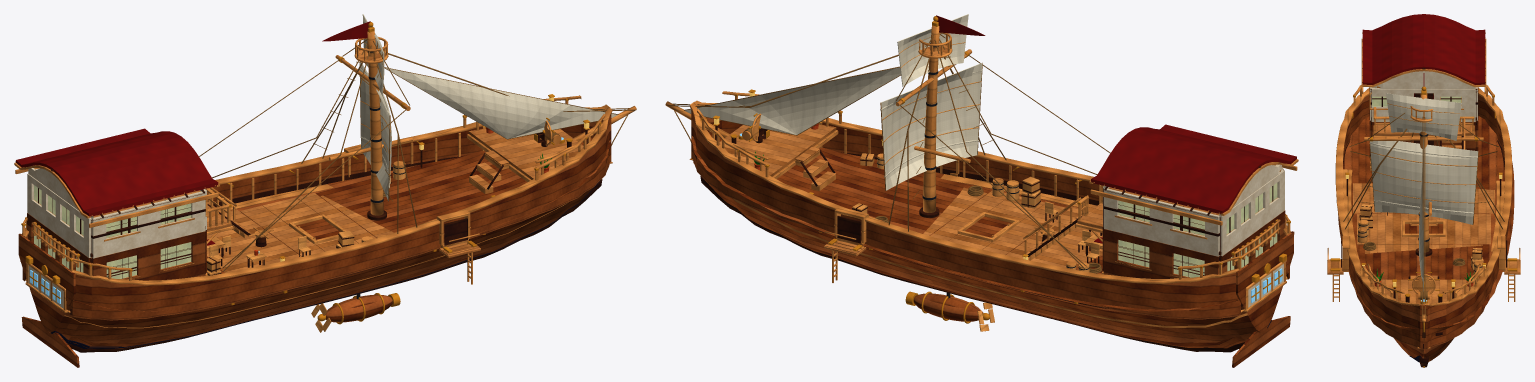
The model's file is airship.glb.
3 renders of one model, left to right at view 1: azimuth 30°, elevation 25°; view 2: azimuth 150°, elevation 25°; view 3: azimuth 270°, elevation 25°, orthographic. The views are drawn at different scales.
Visible parts, largest first — view 1: Hull, CabinShell, Rig, Helm, Props, Boarding; view 2: Hull, CabinShell, Rig, Helm, Props, Boarding; view 3: Hull, Rig, CabinShell, Helm, Boarding, Props.
Boxes of the visible parts, box(x1,y1,x2,y2) form: Hull: box(18, 95, 612, 367); CabinShell: box(14, 128, 346, 280); Rig: box(199, 14, 636, 271); Helm: box(467, 94, 593, 193); Props: box(207, 127, 551, 275); Boarding: box(344, 144, 480, 284); Hull: box(689, 91, 1294, 367); CabinShell: box(957, 124, 1298, 278); Rig: box(665, 14, 1110, 269); Helm: box(709, 89, 838, 191); Props: box(754, 123, 1102, 273); Boarding: box(824, 160, 959, 282); Hull: box(1335, 85, 1514, 367); Rig: box(1343, 73, 1504, 340); CabinShell: box(1361, 14, 1486, 236); Helm: box(1367, 263, 1480, 303); Boarding: box(1327, 236, 1520, 301); Props: box(1345, 93, 1502, 286).
Bounding box in the file's own units: 31.81 × 15.24 × 10.69.
Materials: 21 (21 with a texture image).
